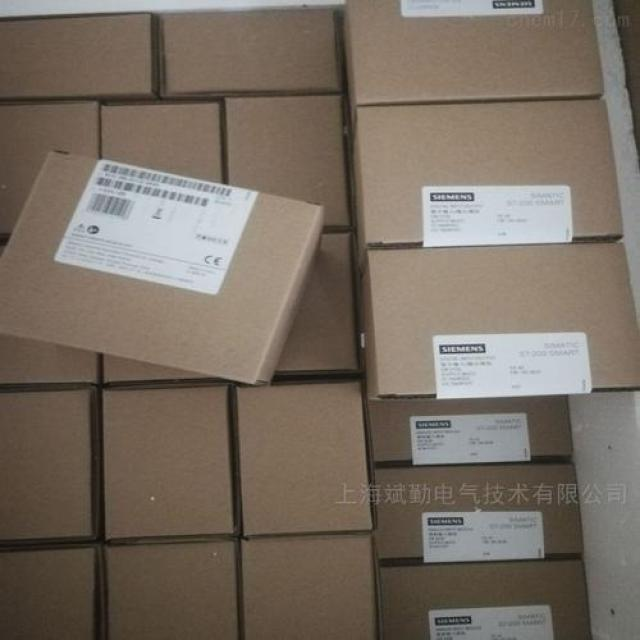box: (0, 147, 325, 385), (345, 99, 621, 283), (358, 240, 639, 400), (339, 0, 604, 161), (97, 385, 236, 543), (372, 460, 583, 561), (237, 381, 372, 537), (376, 559, 591, 639), (158, 4, 340, 98), (223, 93, 349, 227), (241, 533, 382, 638), (366, 395, 571, 464), (0, 100, 101, 236), (105, 538, 242, 638), (276, 230, 357, 371), (102, 101, 224, 184), (103, 353, 221, 379)
